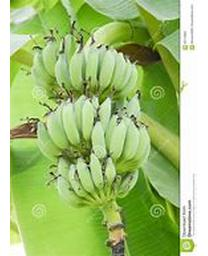banana: (28, 30, 152, 210)
